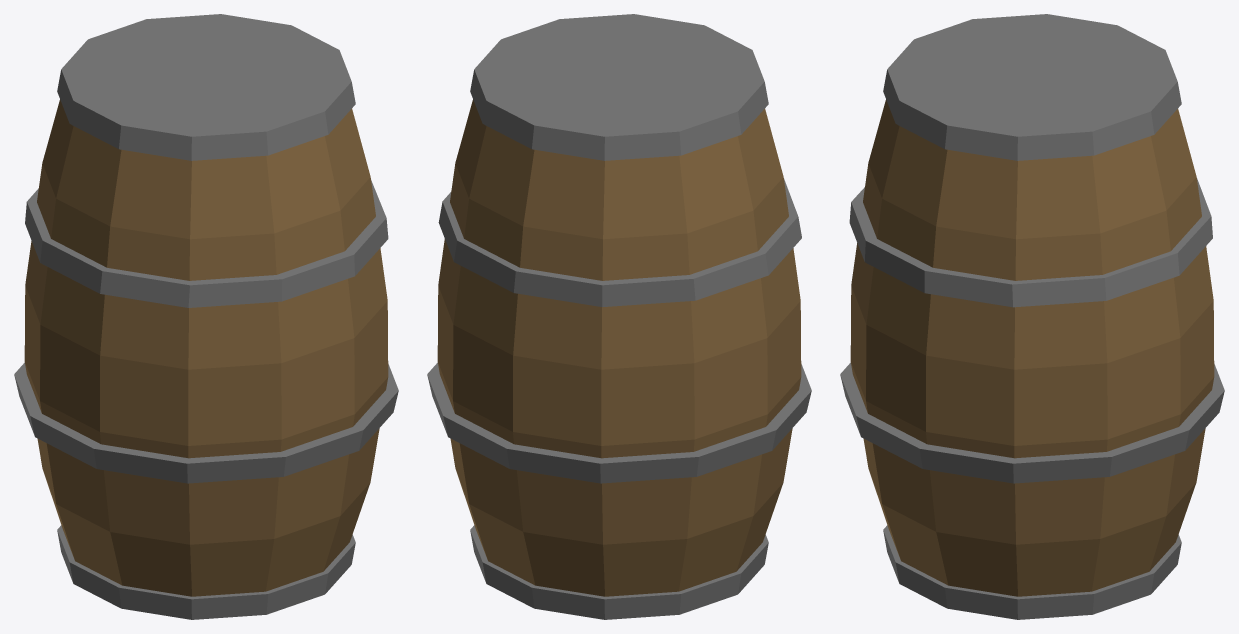
Rendered from barrell.fbx.
3 views of the same model, side by side, from view 1: azimuth 30°, elevation 25°; view 2: azimuth 150°, elevation 25°; view 3: azimuth 270°, elevation 25° (orthographic).
Visible parts, largest first — view 1: Market_SecondAge_Level3; view 2: Market_SecondAge_Level3; view 3: Market_SecondAge_Level3.
Part boxes in pixels (x1,y1,x2,y2): Market_SecondAge_Level3: [14, 14, 398, 619]; Market_SecondAge_Level3: [427, 14, 811, 619]; Market_SecondAge_Level3: [840, 14, 1224, 619].
Bounding box in the file's own units: 0.1027 × 0.1423 × 0.1027.
